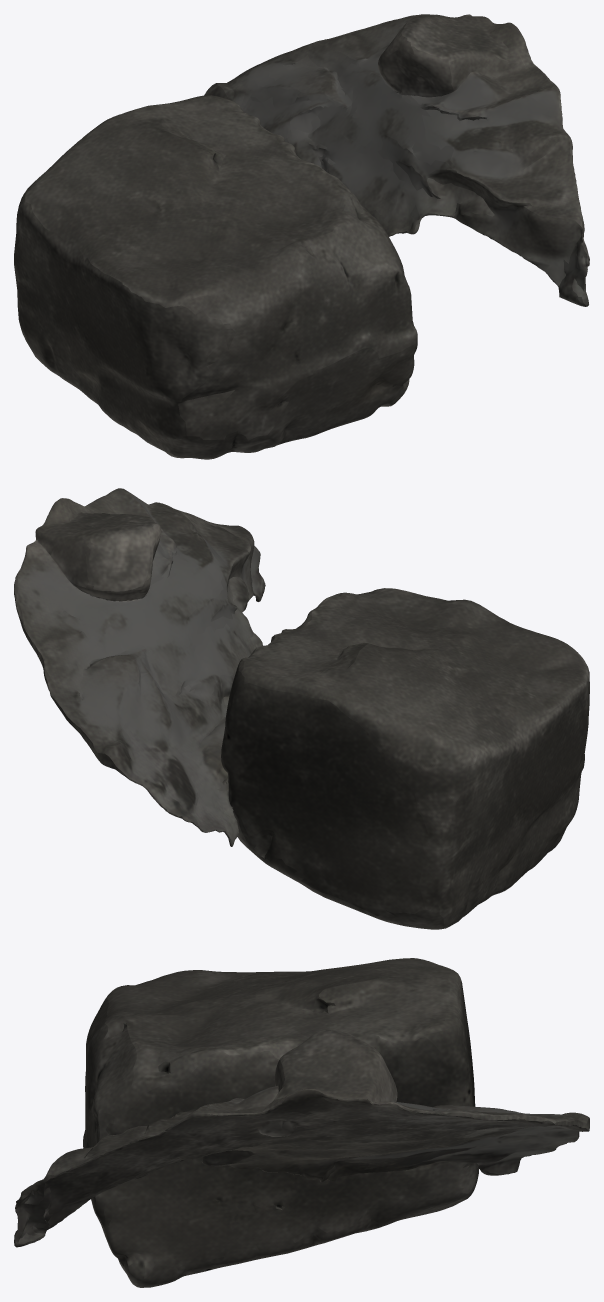
3 renders of one model, top to bottom at view 1: azimuth 30°, elevation 25°; view 2: azimuth 150°, elevation 25°; view 3: azimuth 270°, elevation 25°, orthographic. The views are drawn at different scales.
Visible parts, largest first — view 1: world; view 2: world; view 3: world.
Boxes of the visible parts, left/top/right/bottom form: world: left=14, top=14, right=589, bottom=459; world: left=14, top=488, right=589, bottom=929; world: left=14, top=958, right=589, bottom=1287.
Bounding box in the file's own units: 1.2 × 0.7568 × 1.2.
1 material, 1 textured.
